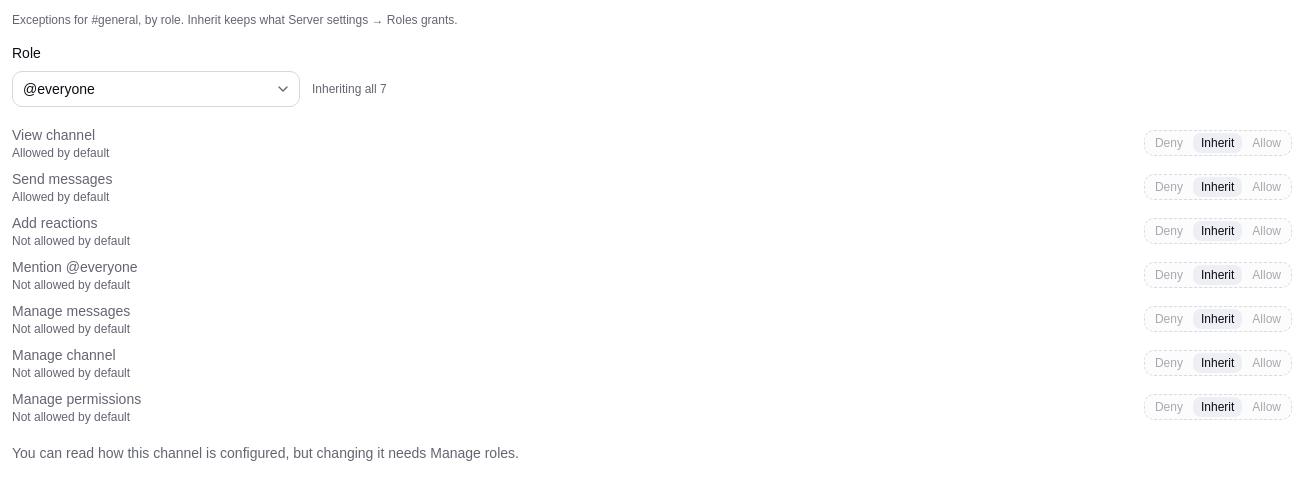
Test: ChannelPermissions › without Manage roles › keeps the target selector usable
Click the dropdown named "Role" at (59, 89), box [12,71,300,107]
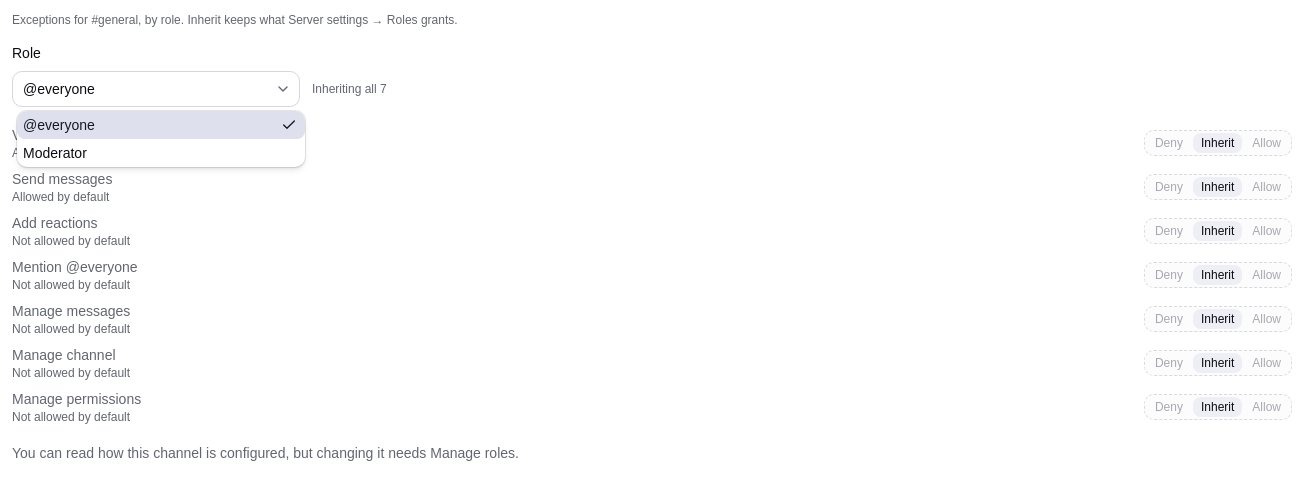
Check: the option "Moderator" is shown, box [23,145,87,161]
